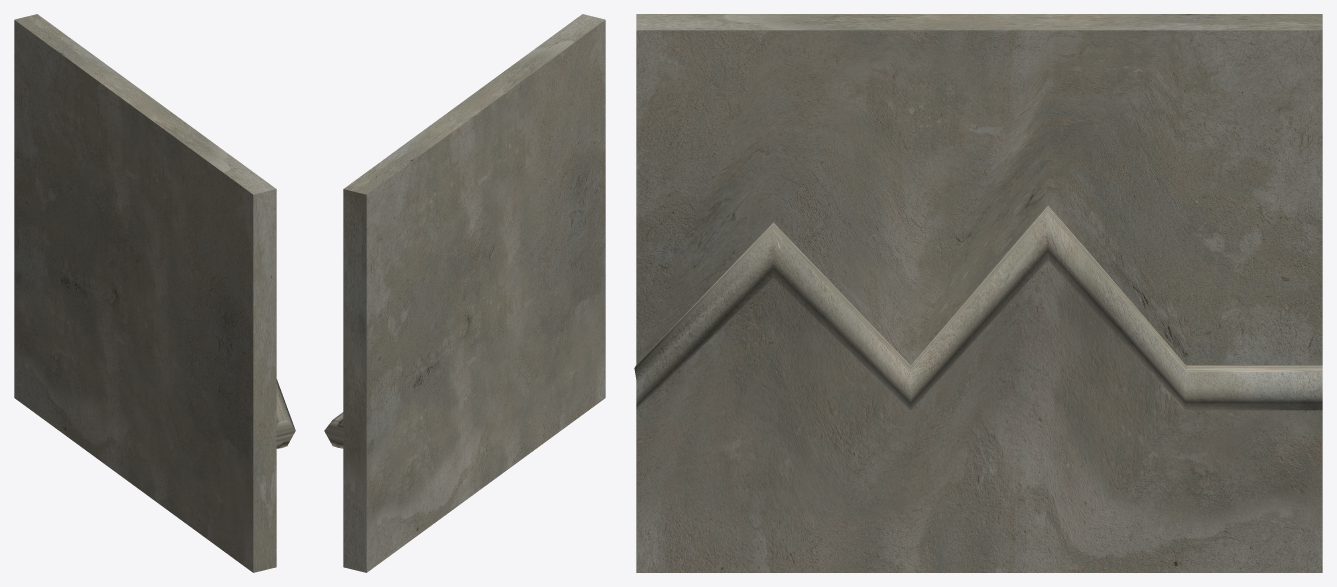
The model's file is Mesh_Static_Pared03_0.fbx.
3 views of the same model, side by side, from view 1: azimuth 30°, elevation 25°; view 2: azimuth 150°, elevation 25°; view 3: azimuth 270°, elevation 25° (orthographic). The views are drawn at different scales.
Parts seen in each view (by area): view 1: cuadroesquina.005; view 2: cuadroesquina.005; view 3: cuadroesquina.005.
Boxes of the visible parts, x1,y1,x2,y2 form: cuadroesquina.005: [14, 14, 295, 572]; cuadroesquina.005: [324, 14, 605, 572]; cuadroesquina.005: [634, 14, 1322, 572].
Size of the model in its own units: 68.11 by 580 by 666.
